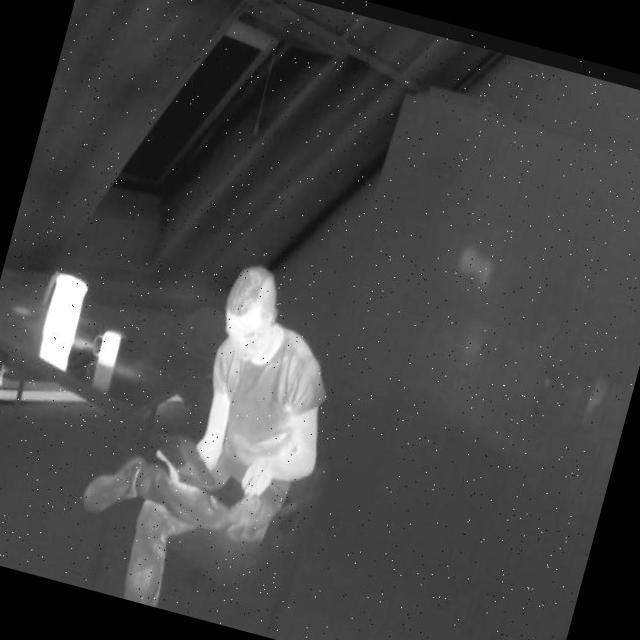person: (59, 232, 364, 638)
